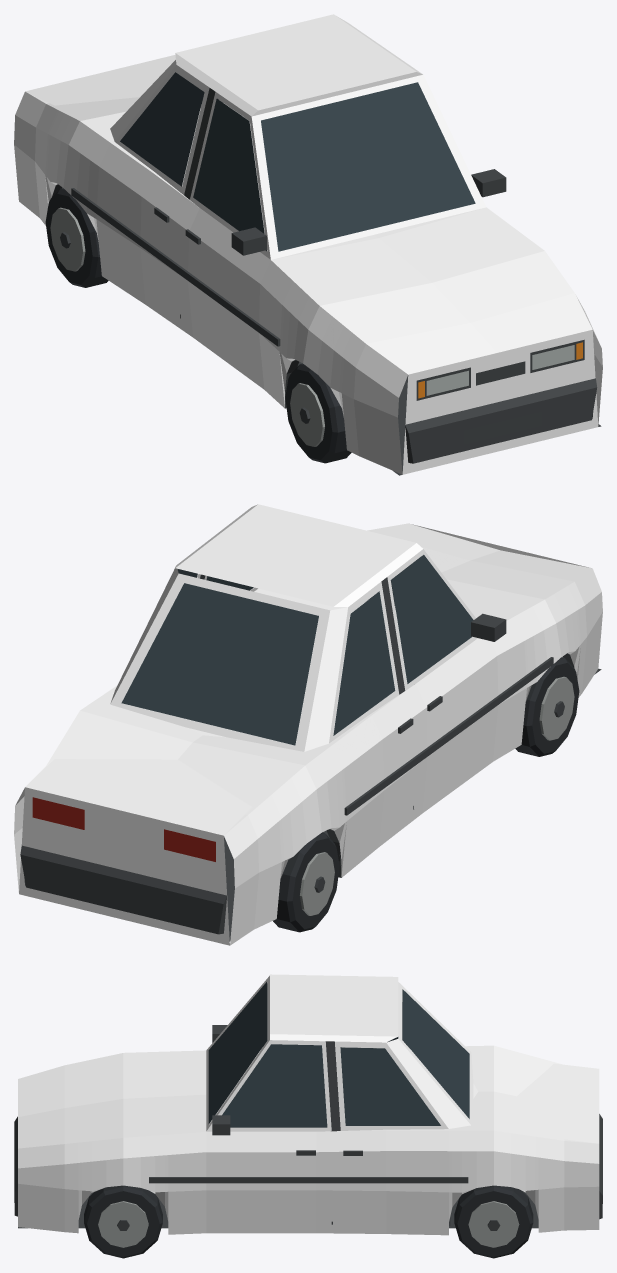
File: tomoe_kogetsu_s.glb
3 views of the same model, one above another, from view 1: azimuth 30°, elevation 25°; view 2: azimuth 150°, elevation 25°; view 3: azimuth 270°, elevation 25° (orthographic). The views are drawn at different scales.
Parts seen in each view (by area): view 1: tomoe_kogetsu_s; view 2: tomoe_kogetsu_s; view 3: tomoe_kogetsu_s.
Boxes of the visible parts, box(x1,y1,x2,y2) form: tomoe_kogetsu_s: box(14, 14, 602, 475); tomoe_kogetsu_s: box(14, 504, 602, 945); tomoe_kogetsu_s: box(14, 974, 602, 1258).
Bounding box in the file's own units: 1.63 × 1.53 × 3.91.
Materials: 8 (1 with a texture image).
